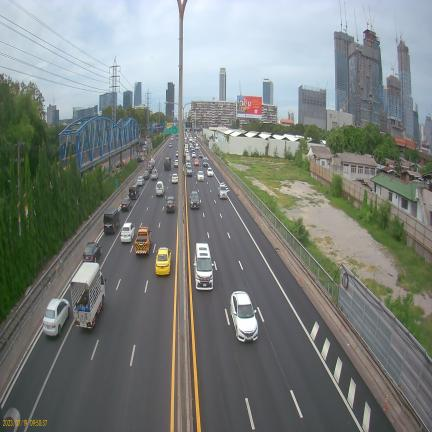car: (230, 291, 258, 342), (43, 298, 70, 336), (155, 247, 171, 275), (83, 242, 102, 262), (121, 222, 135, 242), (190, 191, 200, 209), (166, 196, 175, 213), (121, 196, 131, 211), (156, 181, 164, 196), (137, 176, 144, 186)
pickup: (218, 183, 228, 199)
truck: (70, 262, 106, 328), (135, 227, 152, 254), (164, 157, 171, 170)
van: (194, 243, 214, 289), (104, 209, 120, 233), (129, 184, 139, 199)
